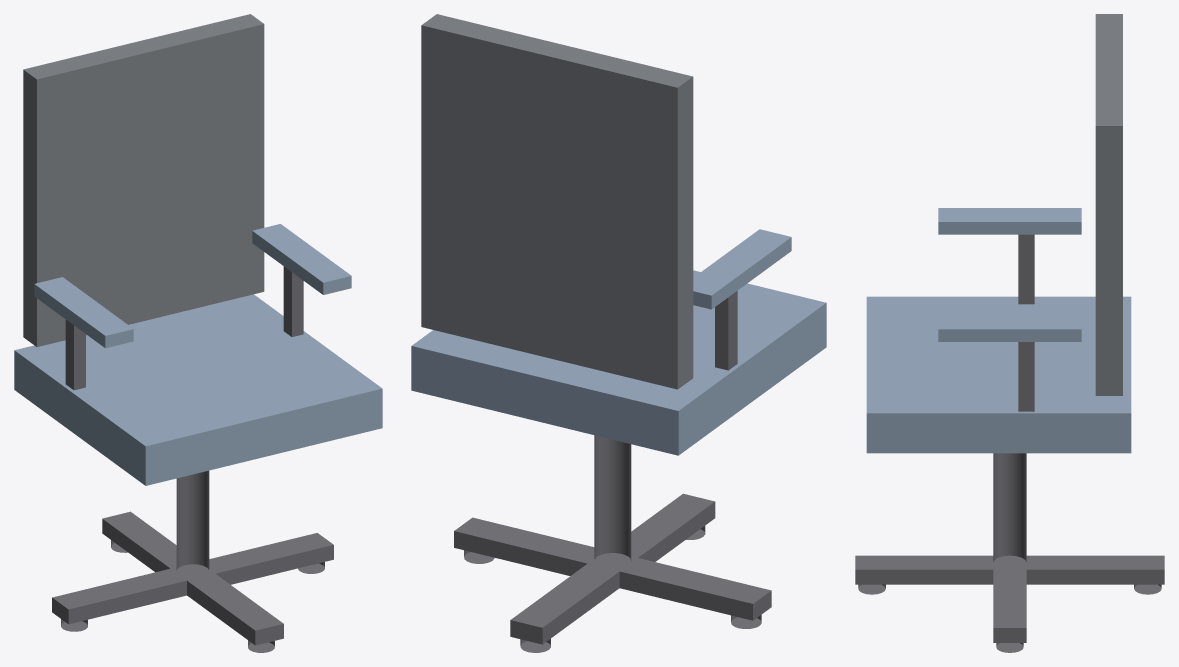
File: CHAIR001.glb
The picture shows the model from 3 angles, left to right: view 1: azimuth 30°, elevation 25°; view 2: azimuth 150°, elevation 25°; view 3: azimuth 270°, elevation 25°; orthographic projection. The views are drawn at different scales.
Parts seen in each view (by area): view 1: FurnitureRoot; view 2: FurnitureRoot; view 3: FurnitureRoot.
Boxes of the visible parts, x1=… form: FurnitureRoot: x1=14, y1=14, x2=382, y2=652; FurnitureRoot: x1=411, y1=14, x2=826, y2=652; FurnitureRoot: x1=855, y1=14, x2=1164, y2=652.
Bounding box in the file's own units: 56 × 104 × 56.
